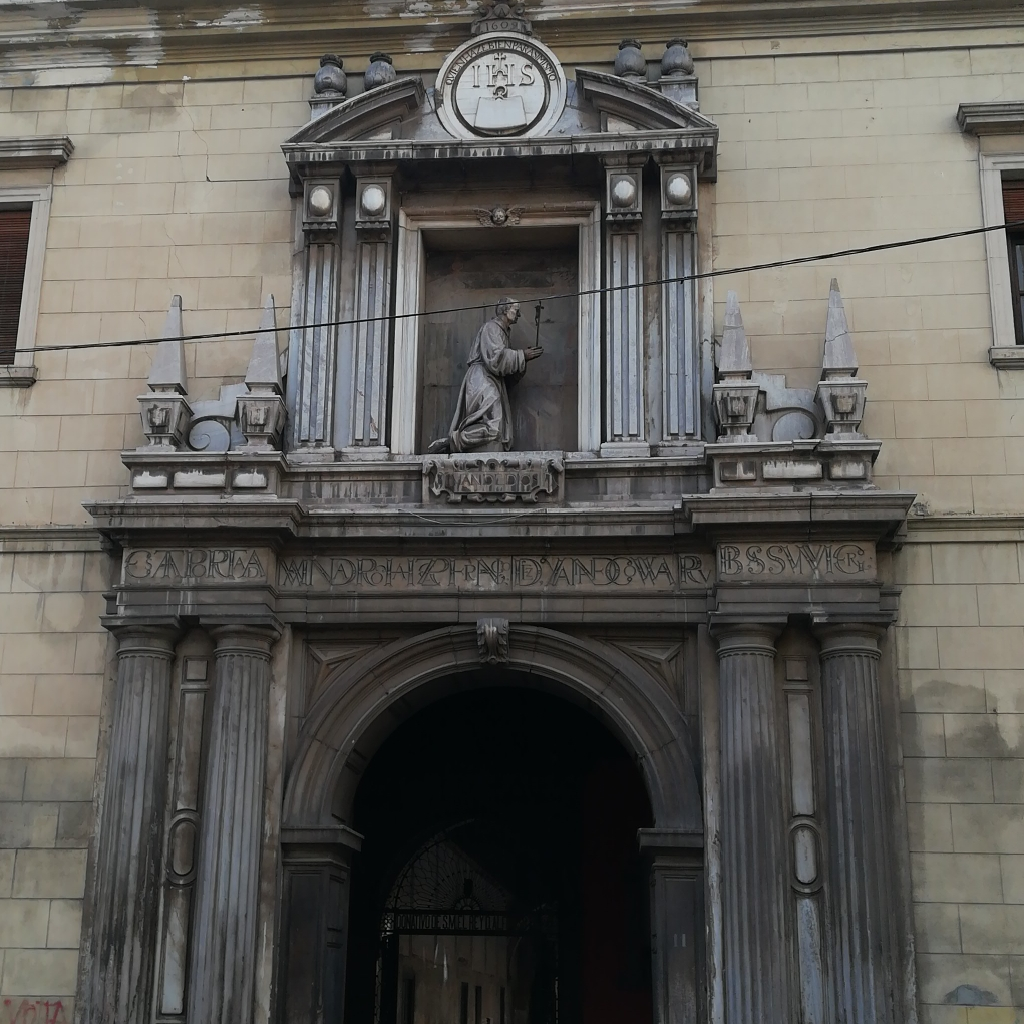arco-medio-punto: (316, 641, 684, 881)
fronton-partido: (278, 73, 709, 163)
vano-adintelado: (382, 200, 607, 452)
